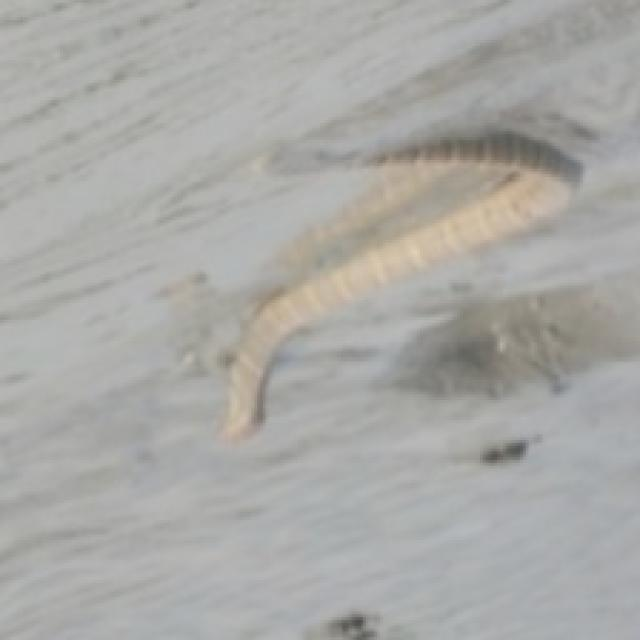king cobra: (220, 134, 580, 440)
